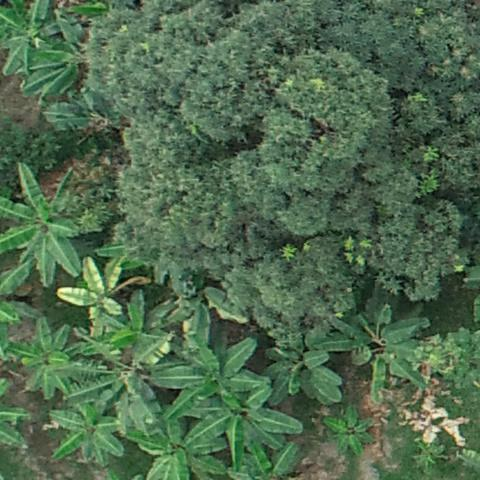Banana-plant: (327, 284, 437, 403), (141, 325, 273, 424), (0, 163, 99, 291), (43, 329, 177, 423), (185, 375, 304, 462), (0, 313, 92, 402), (250, 325, 346, 407), (124, 411, 235, 480), (38, 388, 131, 466), (17, 11, 90, 104), (53, 254, 134, 332), (0, 0, 69, 79), (322, 402, 377, 454)
